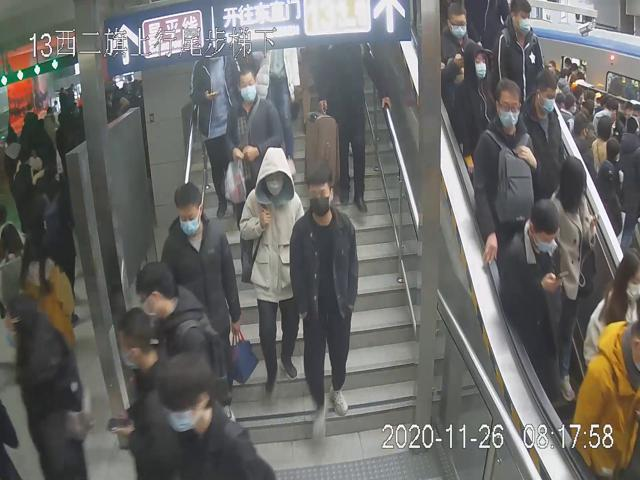person: (160, 181, 253, 424), (287, 166, 359, 444), (238, 144, 303, 404), (497, 196, 567, 404), (221, 67, 287, 269), (469, 76, 540, 261)
